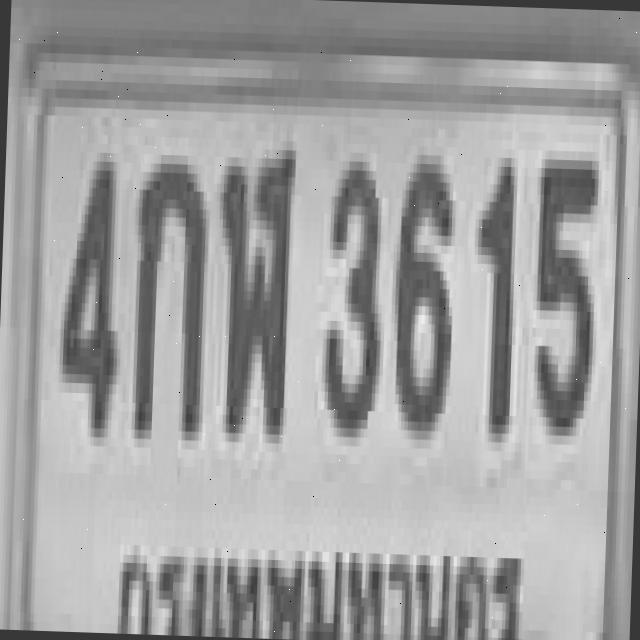1: (468, 148, 514, 434)
10GorGai: (128, 154, 205, 432)
3: (320, 152, 384, 428)
4: (56, 142, 120, 428)
5: (528, 150, 596, 427)
51LorChula: (212, 134, 293, 430)
6: (389, 145, 453, 422)
Bangkok: (104, 523, 534, 640)
